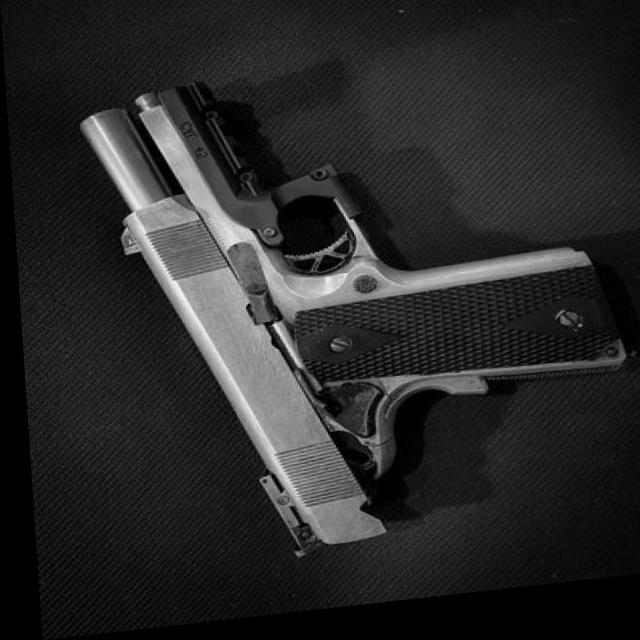handgun: (77, 55, 635, 568)
